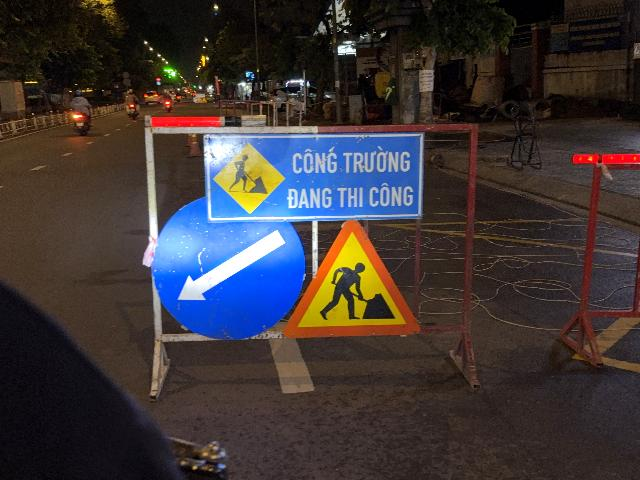cong-truong-dang-thi-cong: (284, 220, 420, 338)
huong-phai-di-vong-chuong-ngai-vat: (152, 196, 306, 341)
